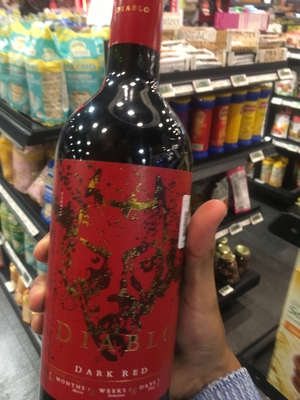diablo dark red: (39, 22, 194, 400)
